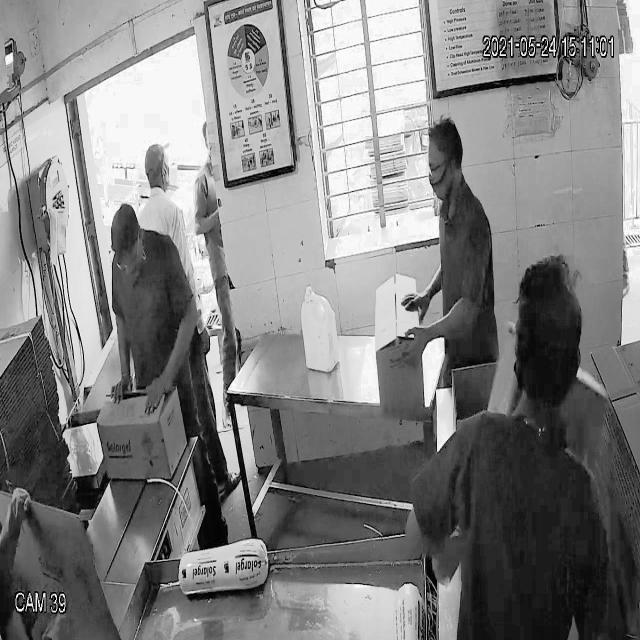glasses: (424, 156, 460, 180)
